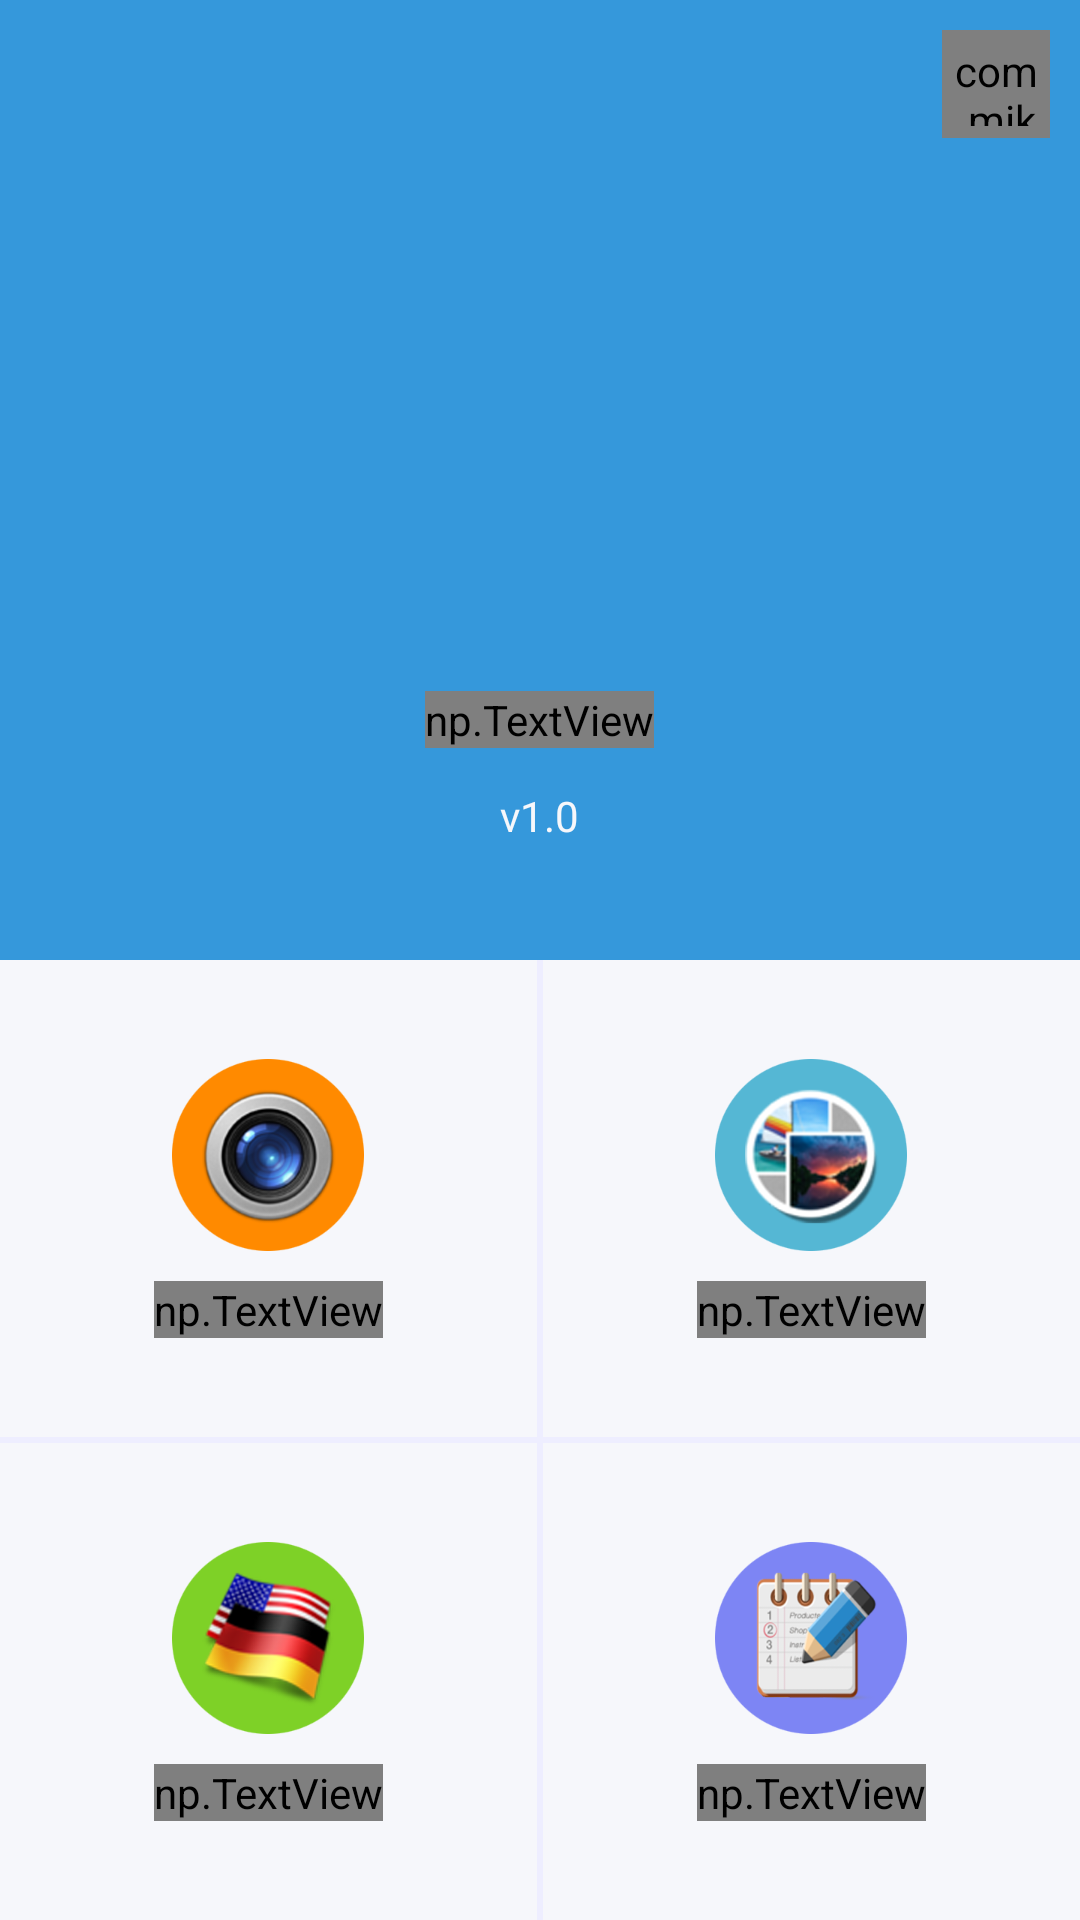

Named icons in this screenshot (1080 × 1920) and their centers, (x=x, y=y):
cameraitem: (x=268, y=1155)
galleryitem: (x=811, y=1155)
historyitem: (x=811, y=1638)
languageitem: (x=268, y=1638)
